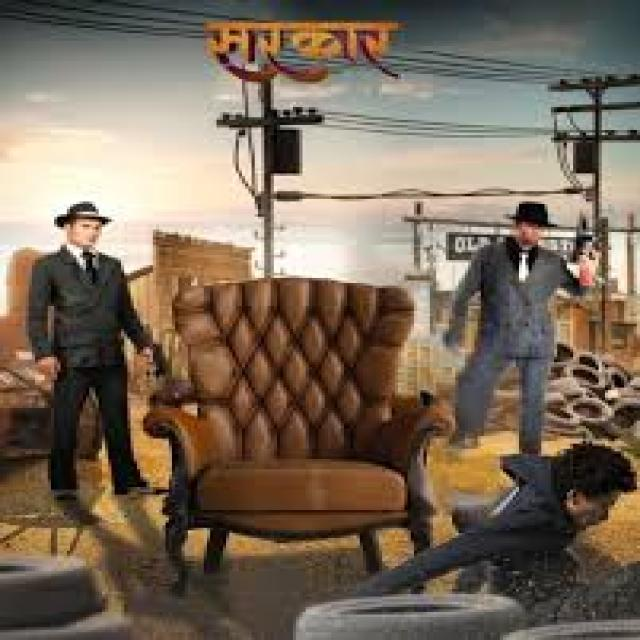Edited images: (407, 177, 628, 467)
